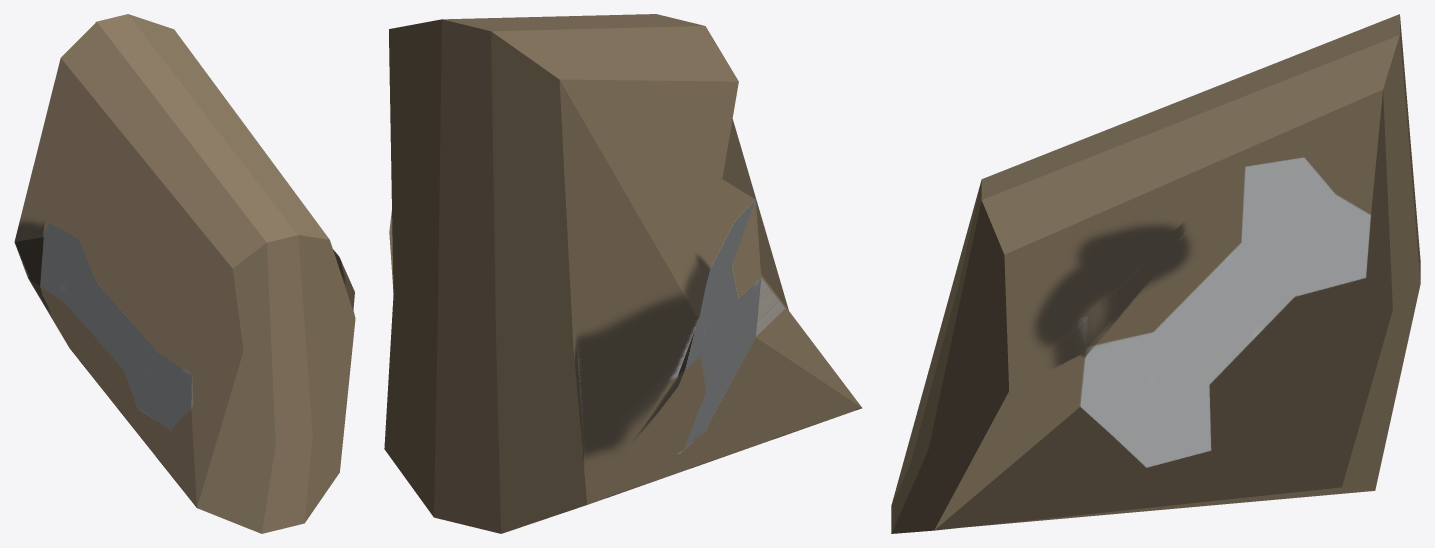
Rendered from fossil3.glb.
The picture shows the model from 3 angles, left to right: view 1: azimuth 30°, elevation 25°; view 2: azimuth 150°, elevation 25°; view 3: azimuth 270°, elevation 25°; orthographic projection. The views are drawn at different scales.
Visible parts, largest first — view 1: Plane; view 2: Plane; view 3: Plane.
Part boxes in pixels (box(x1,y1,x2,y2)): Plane: box(14, 14, 355, 533); Plane: box(384, 14, 862, 533); Plane: box(891, 14, 1420, 533).
Bounding box in the file's own units: 2.34 × 3.34 × 3.17.
1 material, 1 textured.
